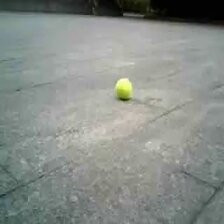tennis: (114, 79, 132, 98)
